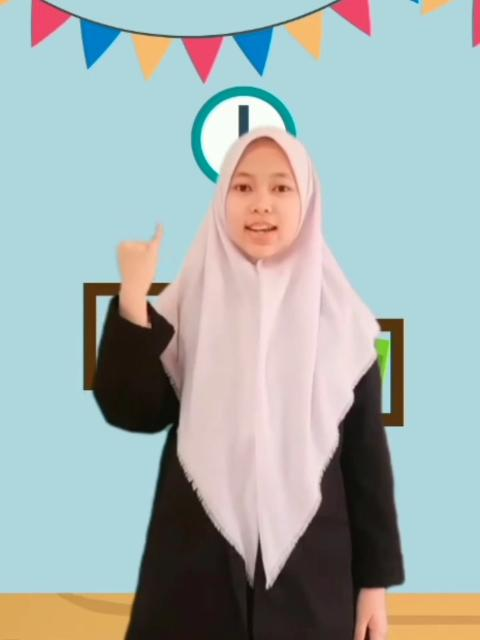J: (112, 215, 172, 298)
